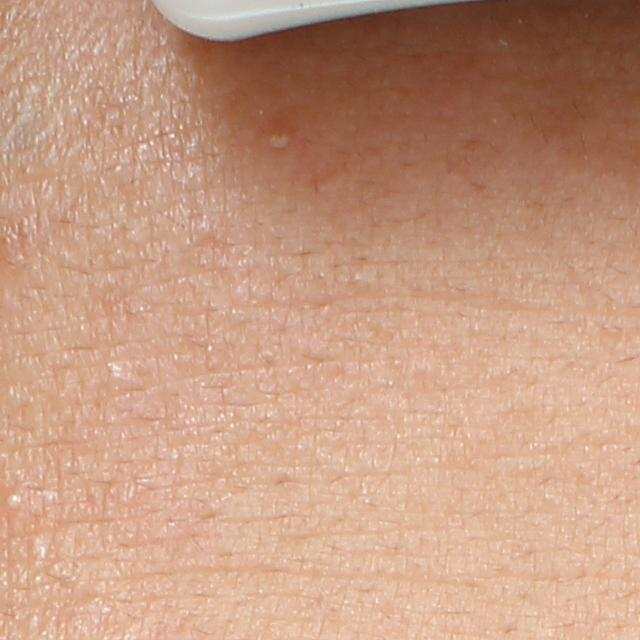comedo: (28, 532, 49, 563), (5, 489, 28, 514)
pustule: (264, 126, 295, 153)
